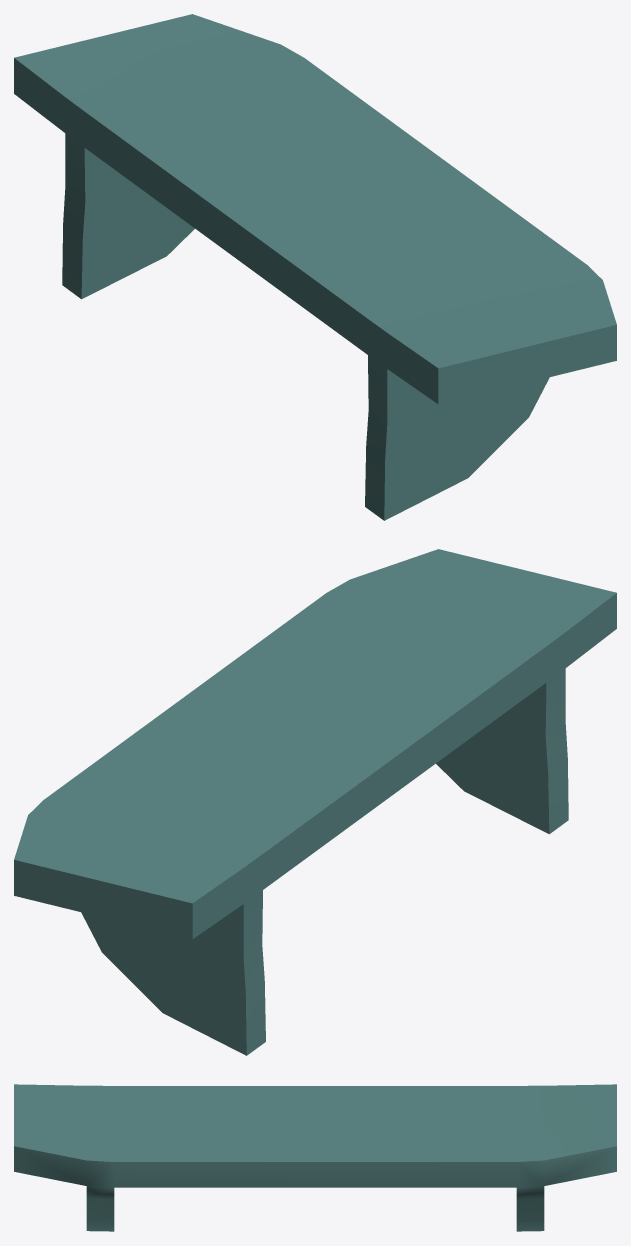
The model's file is wallShelf_flat.fbx.
3 renders of one model, top to bottom at view 1: azimuth 30°, elevation 25°; view 2: azimuth 150°, elevation 25°; view 3: azimuth 270°, elevation 25°, orthographic. The views are drawn at different scales.
Parts seen in each view (by area): view 1: wall_shelf_rest; view 2: wall_shelf_rest; view 3: wall_shelf_rest.
Part boxes in pixels (x1,y1,x2,y2): wall_shelf_rest: [14, 14, 616, 520]; wall_shelf_rest: [14, 549, 616, 1055]; wall_shelf_rest: [14, 1084, 616, 1231].
Size of the model in its own units: 1.7 by 1.38 by 5.61.
